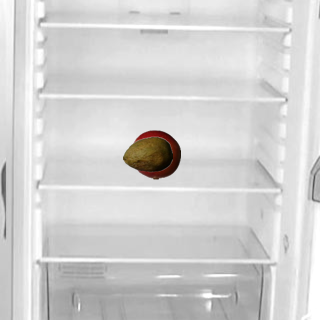Apple Braeburn: (130, 129, 180, 179)
Papaya: (122, 129, 172, 179)
